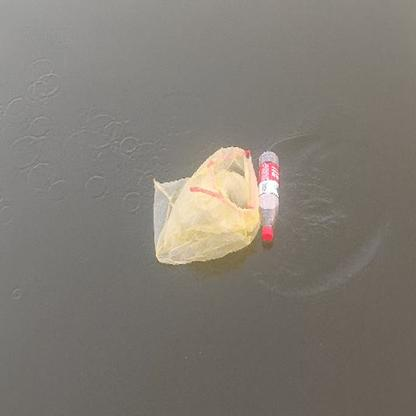plastic bag: (153, 146, 260, 264)
plastic bottle: (259, 150, 280, 242)
